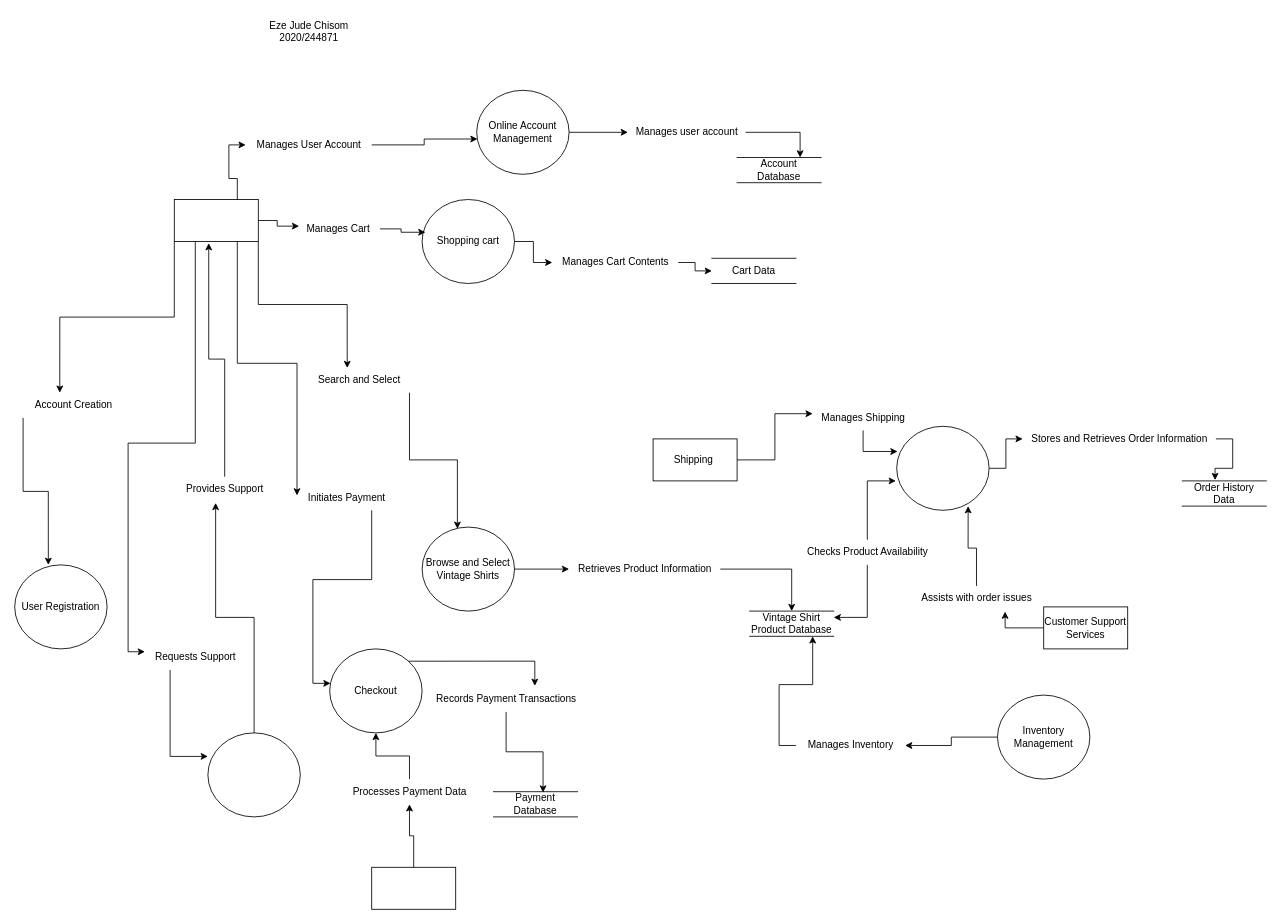
Image size: 1281x924. Some labels were removed from this diagram. Here are the shapes that lost their labels. From the top down, the box of each, then its label:
(173, 199, 258, 242): Customers
(896, 425, 989, 510): Order fulfillment
(207, 732, 300, 817): Customer Service
(371, 866, 456, 909): Payment Platform
